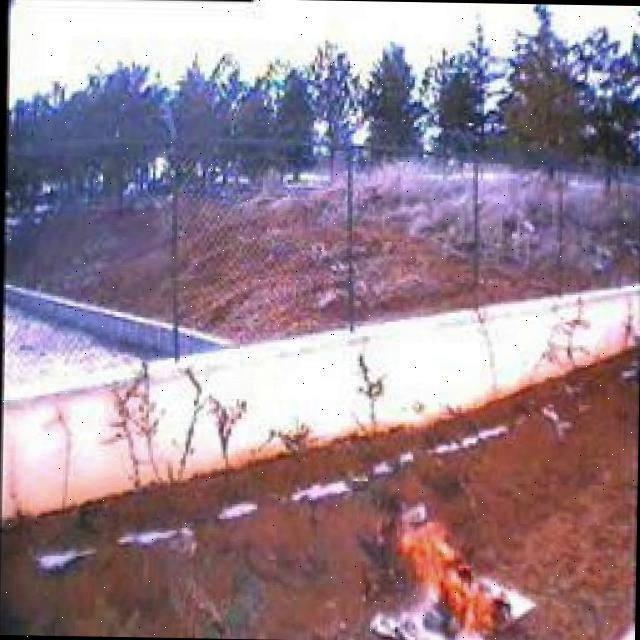fire: (386, 502, 532, 636)
